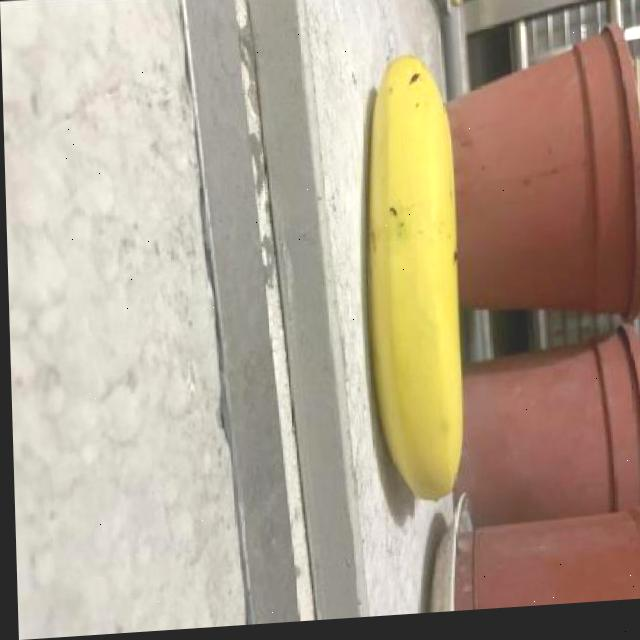banana: (358, 46, 480, 524)
